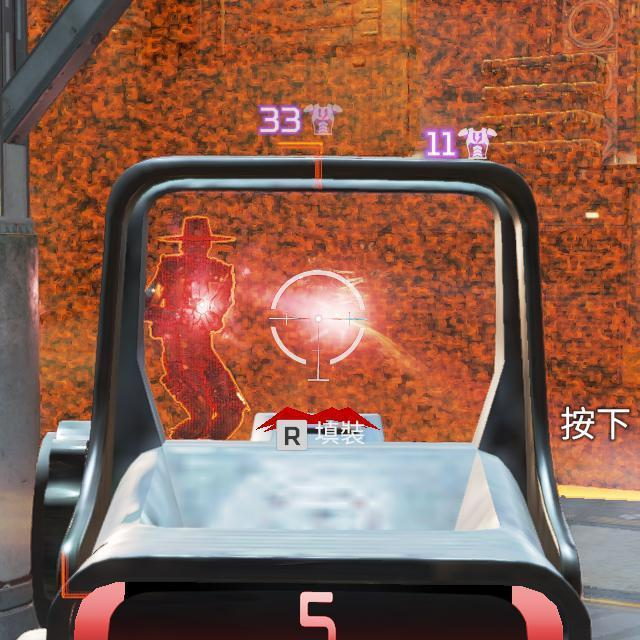avatar: (145, 216, 242, 442)
